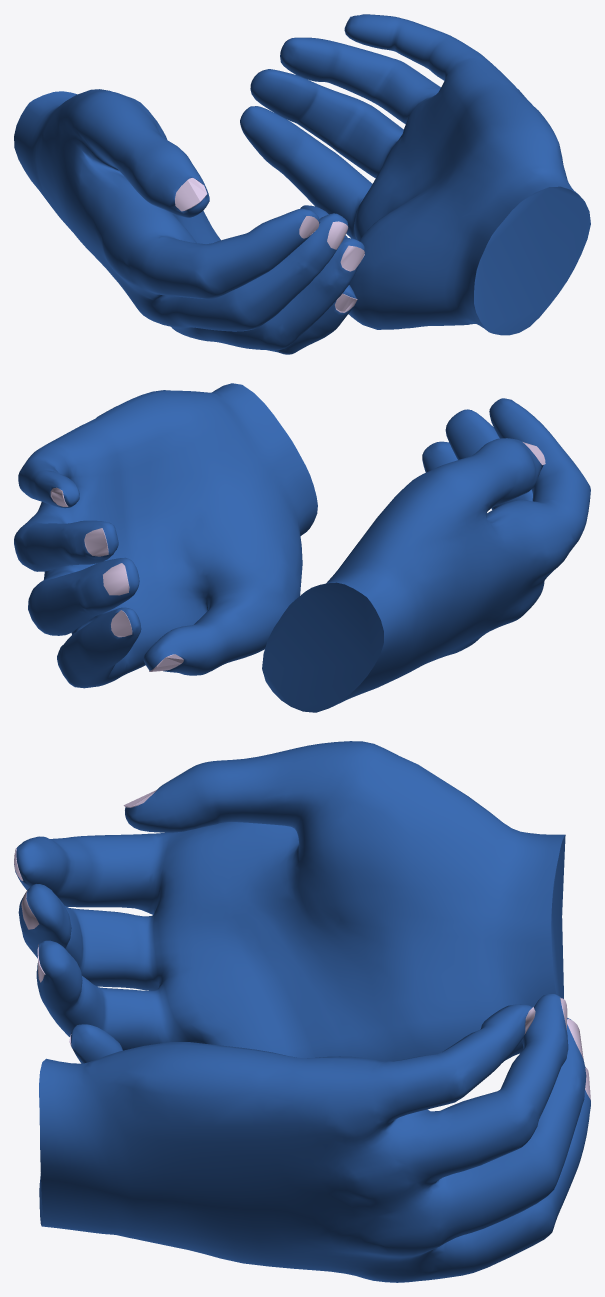
Rendered from Hand set@asif.FBX.
3 views of the same model, one above another, from view 1: azimuth 30°, elevation 25°; view 2: azimuth 150°, elevation 25°; view 3: azimuth 270°, elevation 25° (orthographic). The views are drawn at different scales.
Parts seen in each view (by area): view 1: Left Hand, Right hand; view 2: Left Hand, Right hand; view 3: Right hand, Left Hand.
Part boxes in pixels (bbox=[...]): Left Hand: bbox=[240, 14, 590, 335]; Right hand: bbox=[14, 89, 364, 354]; Left Hand: bbox=[14, 383, 317, 688]; Right hand: bbox=[262, 398, 590, 712]; Right hand: bbox=[14, 741, 565, 1063]; Left Hand: bbox=[39, 994, 590, 1282].
Size of the model in its own units: 38.39 by 20.98 by 32.52.
